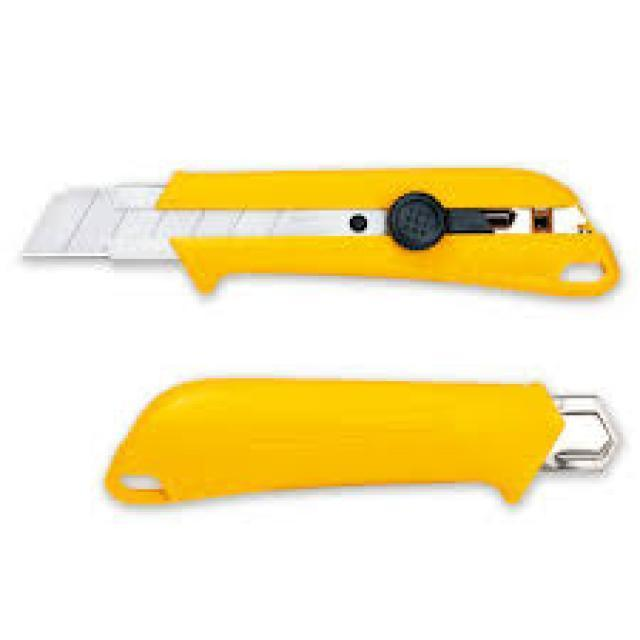cutter: (23, 146, 640, 318), (104, 336, 632, 524)
